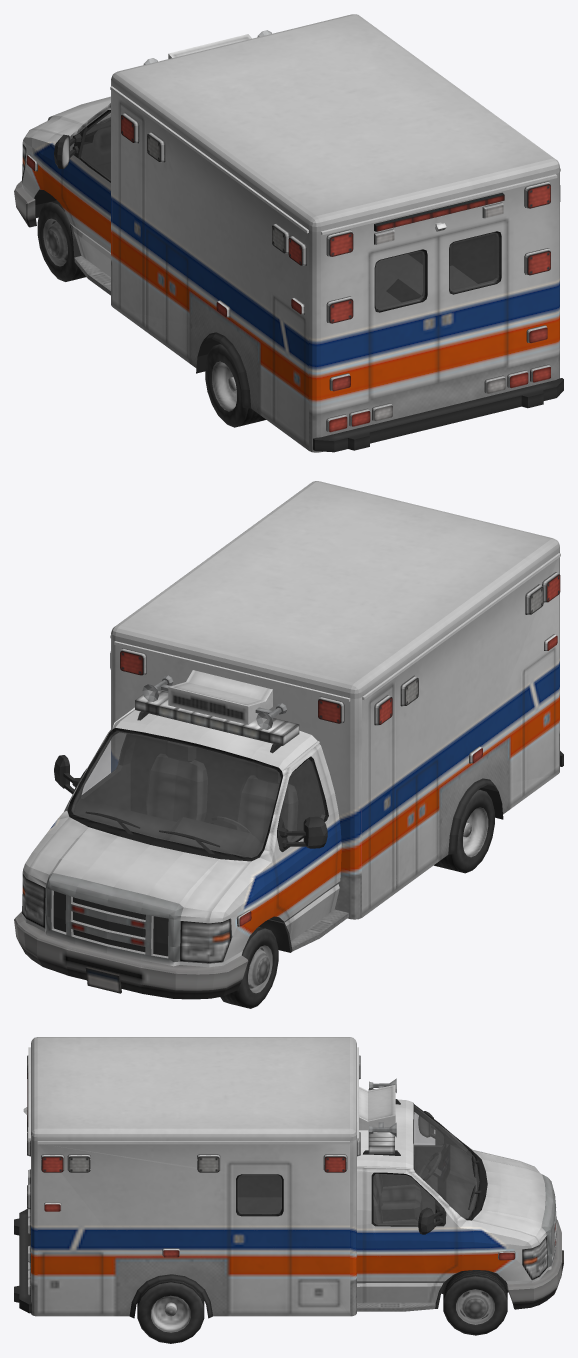
The model's file is 救护车.glb.
3 views of the same model, one above another, from view 1: azimuth 30°, elevation 25°; view 2: azimuth 150°, elevation 25°; view 3: azimuth 270°, elevation 25° (orthographic). The views are drawn at different scales.
Visible parts, largest first — view 1: Ambulance01_Ambulance01_0, Ambulance01_Ambulance01Glass_0, WheelBL001_Ambulance01_0, WheelFL001_Ambulance01_0; view 2: Ambulance01_Ambulance01_0, Ambulance01_Ambulance01Glass_0, WheelBL001_Ambulance01_0, WheelFL001_Ambulance01_0; view 3: Ambulance01_Ambulance01_0, Ambulance01_Ambulance01Glass_0, WheelFL_Ambulance01_0, WheelBR001_Ambulance01_0.
Part boxes in pixels (box(x1,y1,x2,y2)): Ambulance01_Ambulance01_0: box(14, 14, 563, 452); Ambulance01_Ambulance01Glass_0: box(81, 111, 498, 309); WheelBL001_Ambulance01_0: box(205, 344, 266, 427); WheelFL001_Ambulance01_0: box(37, 200, 85, 281); Ambulance01_Ambulance01_0: box(14, 481, 563, 999); Ambulance01_Ambulance01Glass_0: box(72, 731, 325, 857); WheelBL001_Ambulance01_0: box(434, 789, 494, 873); WheelFL001_Ambulance01_0: box(220, 927, 278, 1008); Ambulance01_Ambulance01_0: box(14, 1037, 563, 1318); Ambulance01_Ambulance01Glass_0: box(237, 1105, 479, 1224); WheelFL_Ambulance01_0: box(443, 1270, 507, 1335); WheelBR001_Ambulance01_0: box(137, 1280, 204, 1343).
Size of the model in its own units: 2.81 by 2.67 by 6.24.
2 materials, 2 textured.
